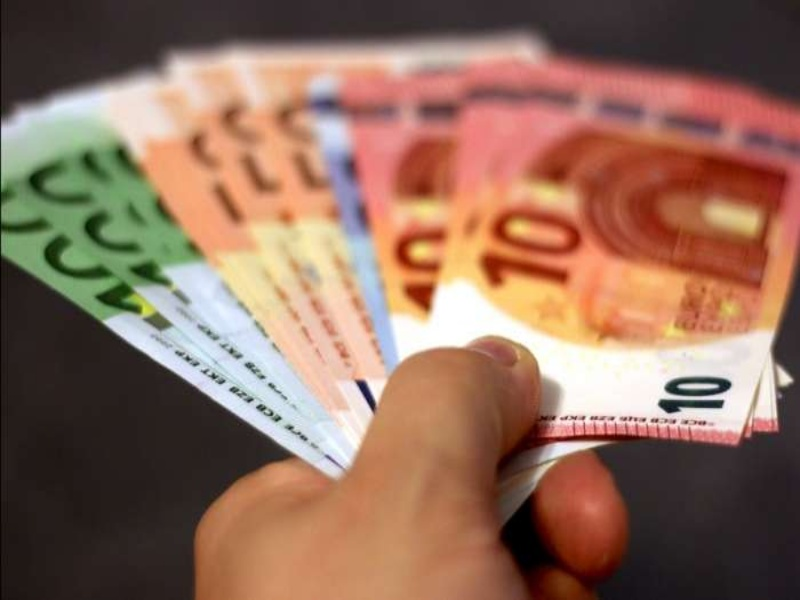cash: (1, 30, 800, 477)
